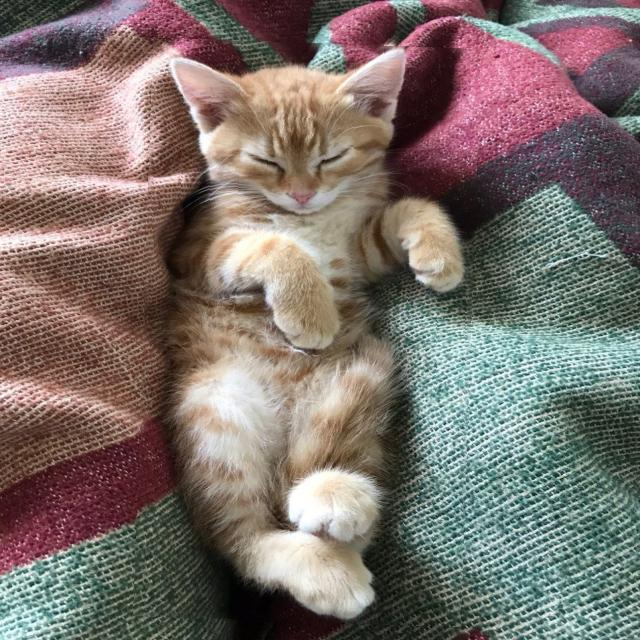red_cat: (138, 40, 476, 625)
